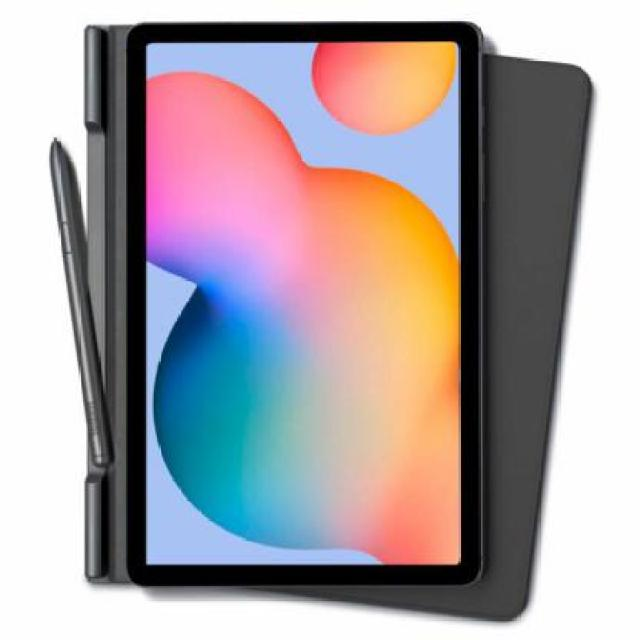tablet: (115, 14, 492, 595)
